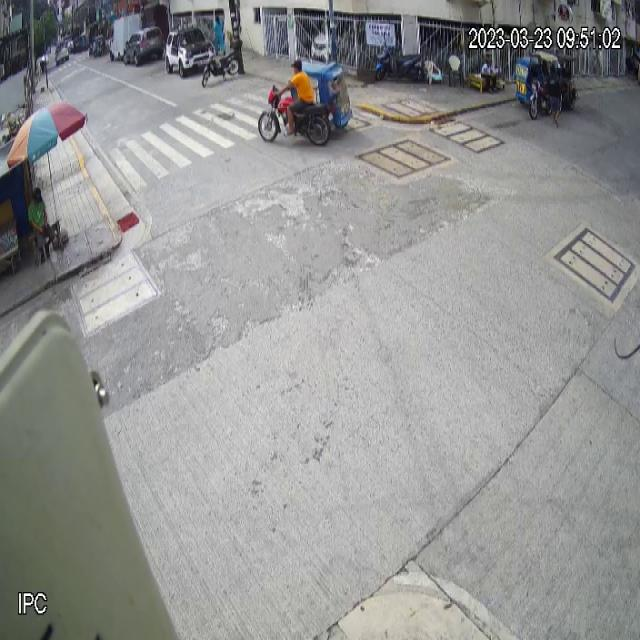Tricycle: (258, 59, 354, 147), (514, 50, 561, 121)
